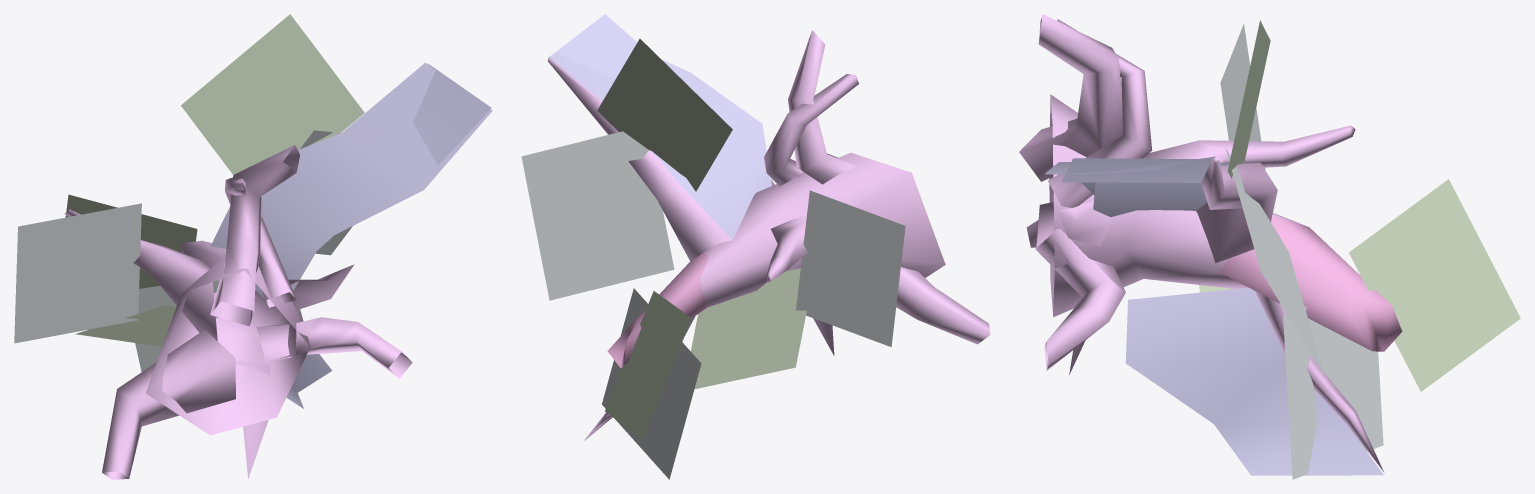
3 renders of one model, left to right at view 1: azimuth 30°, elevation 25°; view 2: azimuth 150°, elevation 25°; view 3: azimuth 270°, elevation 25°, orthographic. The views are drawn at different scales.
Parts seen in each view (by area): view 1: Object26; view 2: Object26; view 3: Object26.
Part boxes in pixels (box(x1,y1,x2,y2)): Object26: box(14, 14, 492, 479); Object26: box(521, 14, 990, 479); Object26: box(1019, 14, 1520, 479).
Size of the model in its own units: 63491 by 61353 by 58995.
